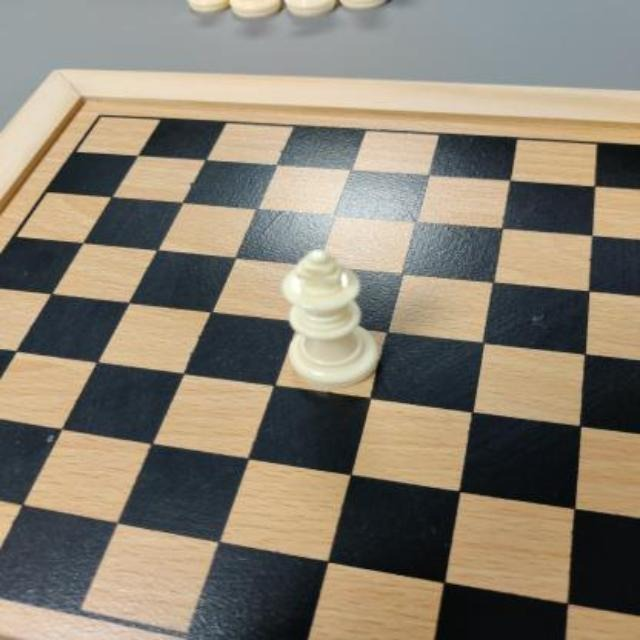white-king: (279, 245, 385, 389)
